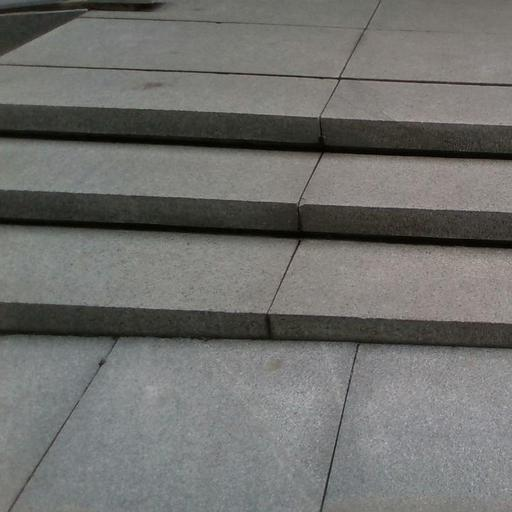Stairs: (0, 67, 512, 346)
